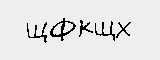К: (76, 15, 94, 39)
Ф: (50, 17, 76, 46)
Х: (115, 18, 132, 42)
Щ: (23, 19, 49, 45), (93, 19, 115, 42)
